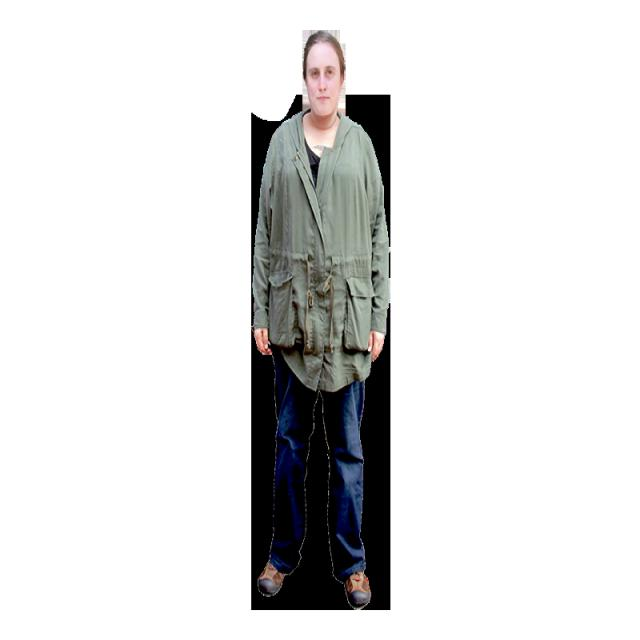jovem: (248, 20, 397, 620)
